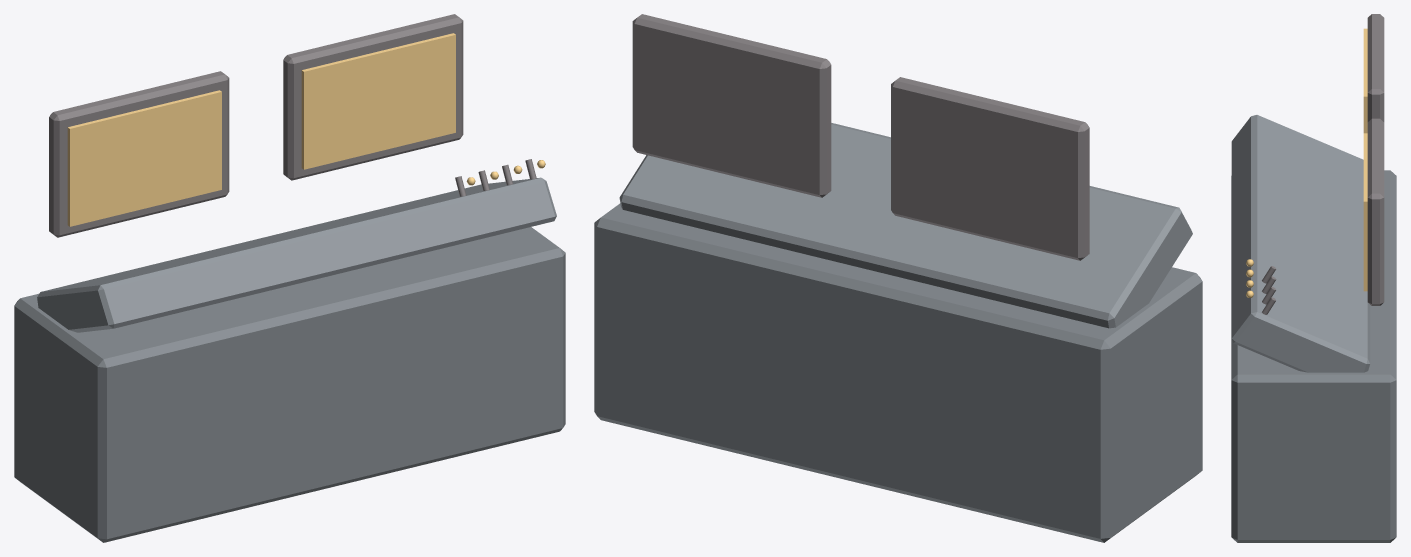
The model's file is console.glb.
The picture shows the model from 3 angles, left to right: view 1: azimuth 30°, elevation 25°; view 2: azimuth 150°, elevation 25°; view 3: azimuth 270°, elevation 25°; orthographic projection. The views are drawn at different scales.
Parts seen in each view (by area): view 1: steel*0.8, steel, lit.011, lit.010, iron.001, iron; view 2: steel*0.8, steel, iron.001, iron; view 3: steel*0.8, steel, iron.001, iron, lit.011, lit.010.
Boxes of the visible parts, box(x1,y1,x2,y2) form: steel*0.8: box(14, 227, 565, 542); steel: box(37, 177, 556, 332); lit.011: box(301, 33, 455, 169); lit.010: box(67, 90, 221, 226); iron.001: box(283, 14, 463, 180); iron: box(49, 71, 229, 237); steel*0.8: box(594, 203, 1202, 542); steel: box(619, 123, 1192, 328); iron.001: box(632, 14, 831, 197); iron: box(891, 77, 1089, 260); steel*0.8: box(1231, 170, 1396, 542); steel: box(1231, 115, 1370, 372); iron.001: box(1367, 118, 1384, 305); iron: box(1367, 14, 1384, 121); lit.011: box(1363, 133, 1367, 291); lit.010: box(1363, 28, 1367, 133).
Size of the model in its own units: 2.4 by 1.8 by 0.8.
